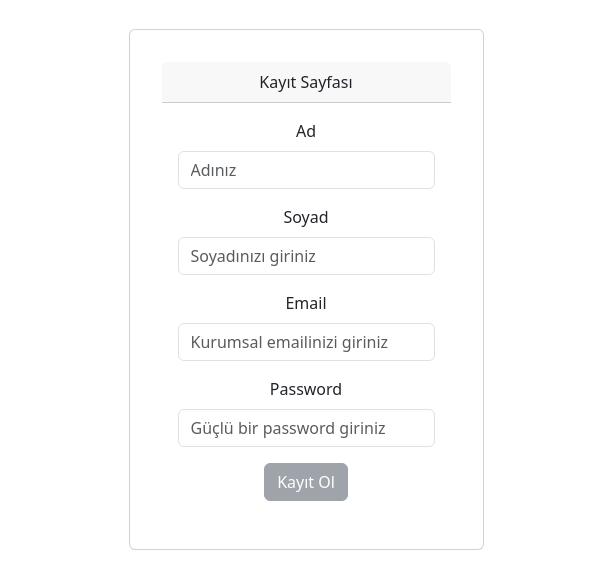
Forms Page › Error Messages › password input throws error for 1234
Type "1234" into the password field with test id "password-input" at (307, 428), box left=178, top=409, right=435, bottom=447
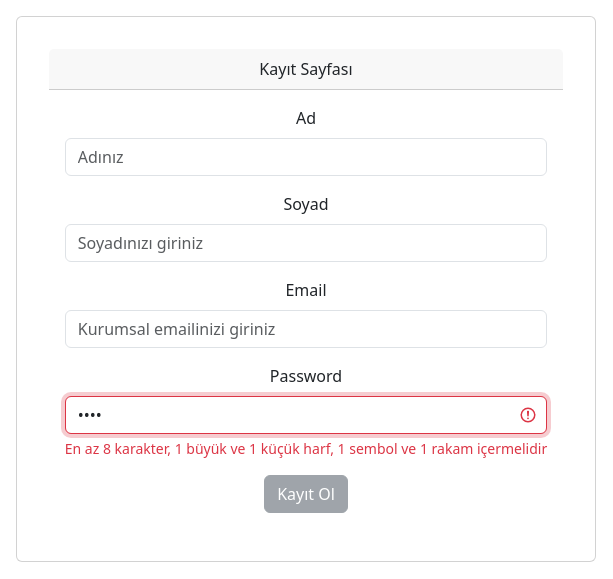
Check: the text "En az 8 karakter, 1 büyük ve 1 küçük harf, 1 sembol ve 1 rakam içermelidir" is shown, box left=65, top=438, right=547, bottom=459
